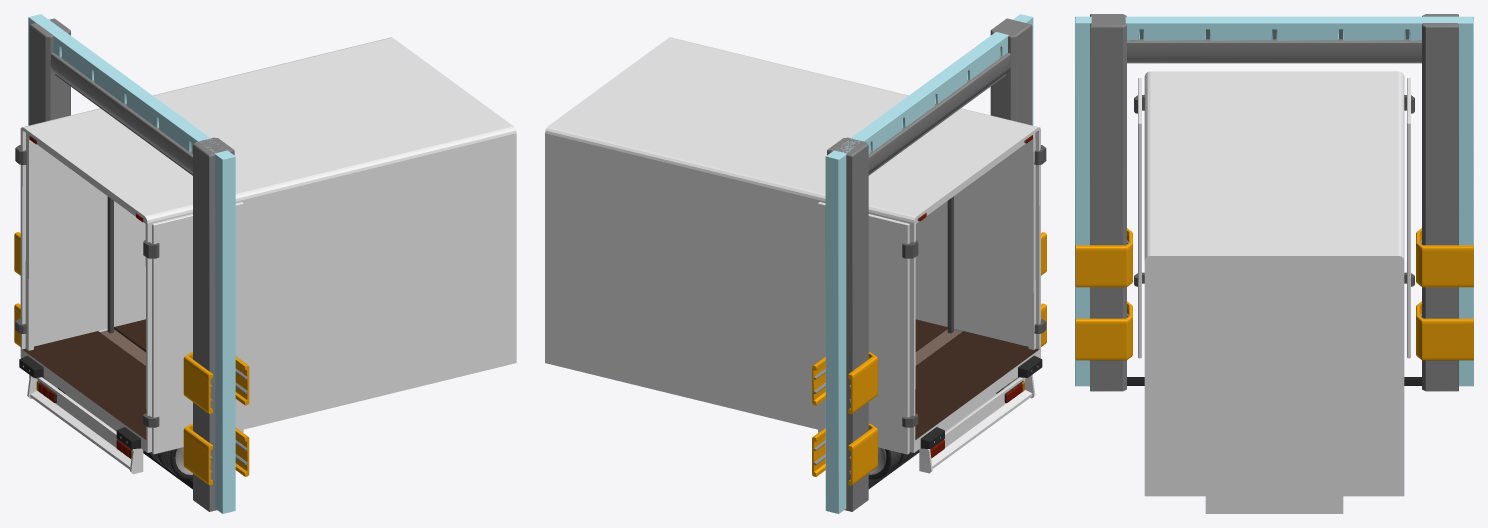
The model's file is Delivery_Truck.glb.
3 views of the same model, side by side, from view 1: azimuth 30°, elevation 25°; view 2: azimuth 150°, elevation 25°; view 3: azimuth 270°, elevation 25° (orthographic). The views are drawn at different scales.
Visible parts, largest first — view 1: Delivery_Truck.001, Doorframe_Delivery; view 2: Delivery_Truck.001, Doorframe_Delivery; view 3: Delivery_Truck.001, Doorframe_Delivery.
Part boxes in pixels (x1,y1,x2,y2): Delivery_Truck.001: (15,37,516,479); Doorframe_Delivery: (14,14,249,513); Delivery_Truck.001: (545,37,1046,479); Doorframe_Delivery: (812,14,1046,513); Delivery_Truck.001: (1134,71,1414,513); Doorframe_Delivery: (1075,14,1473,391).
Size of the model in its own units: 4.49 by 4.04 by 4.
2 materials, 2 textured.
